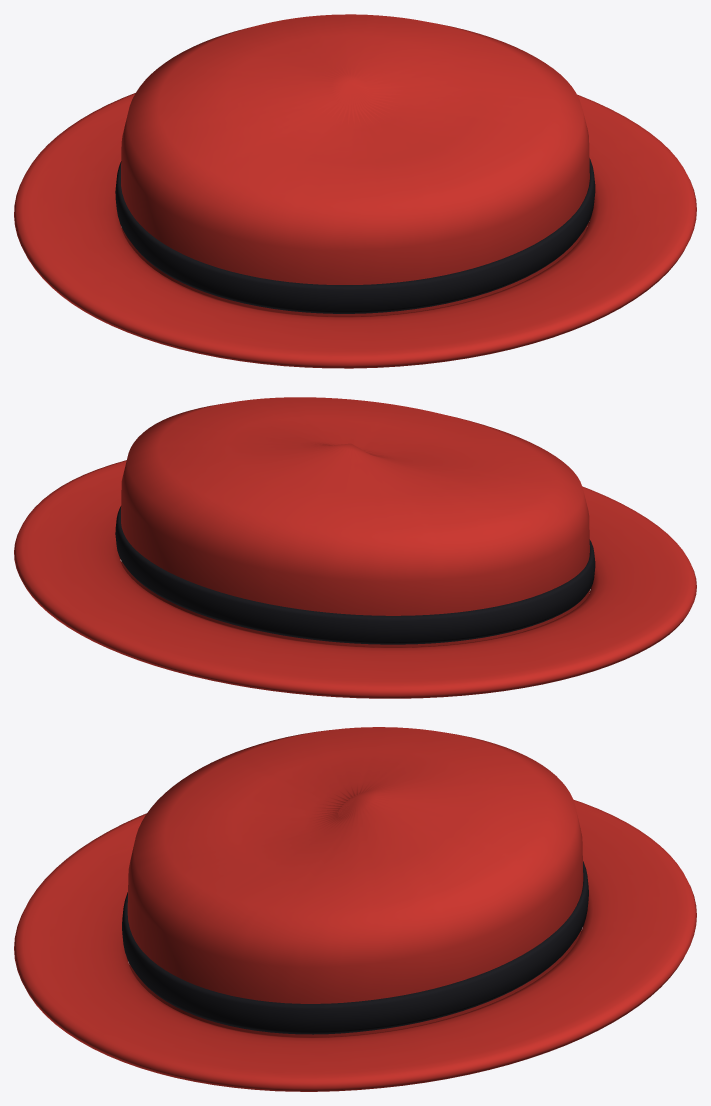
The model's file is hw_boater.glb.
3 views of the same model, one above another, from view 1: azimuth 30°, elevation 25°; view 2: azimuth 150°, elevation 25°; view 3: azimuth 270°, elevation 25° (orthographic). The views are drawn at different scales.
Visible parts, largest first — view 1: hw_boater, hw_boater_brim, hw_boater_band; view 2: hw_boater, hw_boater_brim, hw_boater_band; view 3: hw_boater, hw_boater_brim, hw_boater_band.
Part boxes in pixels (x1,y1,x2,y2): hw_boater: (121, 14, 589, 316); hw_boater_brim: (14, 93, 696, 368); hw_boater_band: (115, 158, 595, 313); hw_boater: (121, 397, 589, 647); hw_boater_brim: (14, 460, 696, 698); hw_boater_band: (115, 506, 595, 644); hw_boater: (127, 727, 583, 1037); hw_boater_brim: (14, 799, 696, 1091); hw_boater_band: (122, 861, 588, 1034).
Size of the model in its own units: 0.9648 by 0.2326 by 0.8925.
